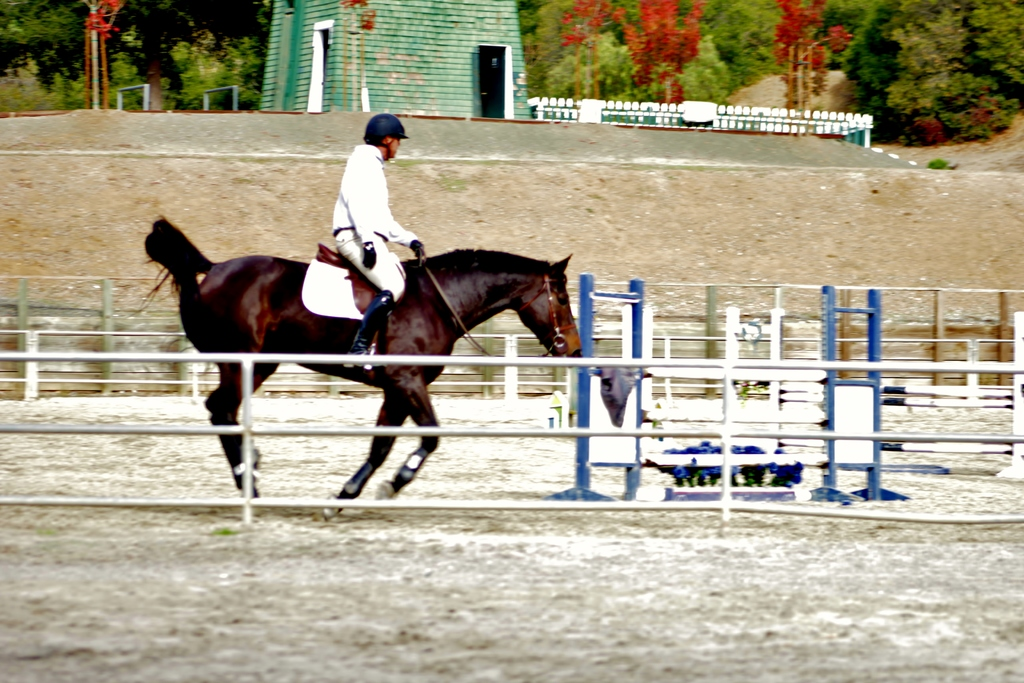horse: (138, 214, 581, 522)
